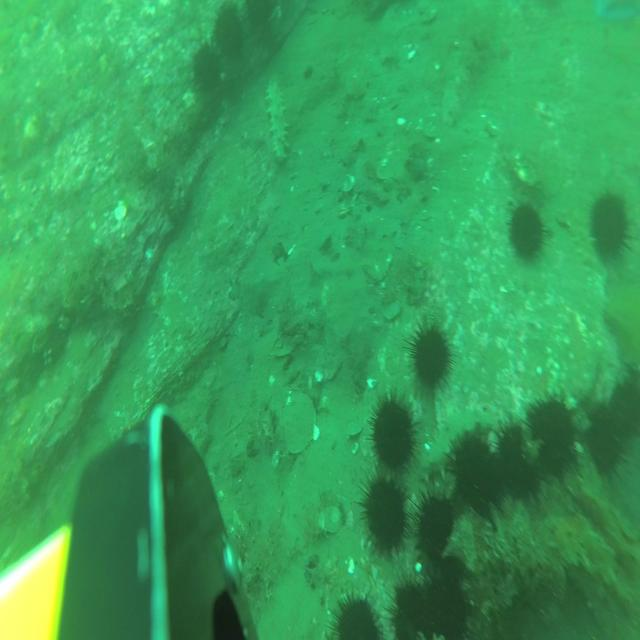echinus: (355, 464, 415, 564), (365, 389, 422, 481), (446, 432, 502, 525), (524, 393, 578, 483), (494, 416, 541, 506), (404, 317, 456, 396), (408, 487, 457, 567), (417, 571, 473, 640), (588, 190, 636, 266), (584, 398, 626, 481), (386, 571, 433, 640), (326, 587, 386, 640), (508, 199, 547, 265), (212, 2, 246, 60), (609, 376, 640, 438), (192, 40, 222, 96), (240, 0, 280, 32)
holothurian: (264, 78, 290, 164)
scallop: (282, 391, 317, 455), (319, 502, 343, 537), (345, 74, 368, 102), (346, 419, 364, 438)
